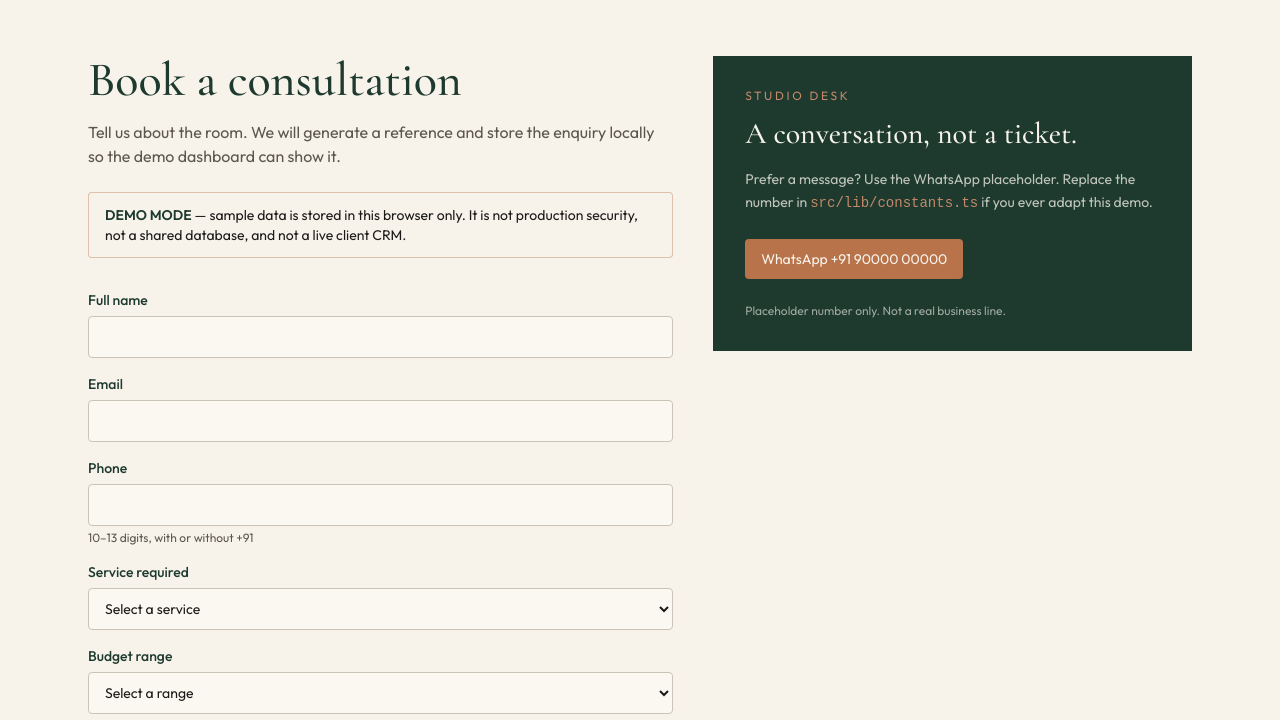
Test: ContactPage › saves a valid enquiry and shows a reference
Type "Meera Iyer" into the field labelled "Full name" at (381, 337), box [88,316,673,358]
Type "meera@example.com" into the field labelled "Email" at (381, 421), box [88,400,673,442]
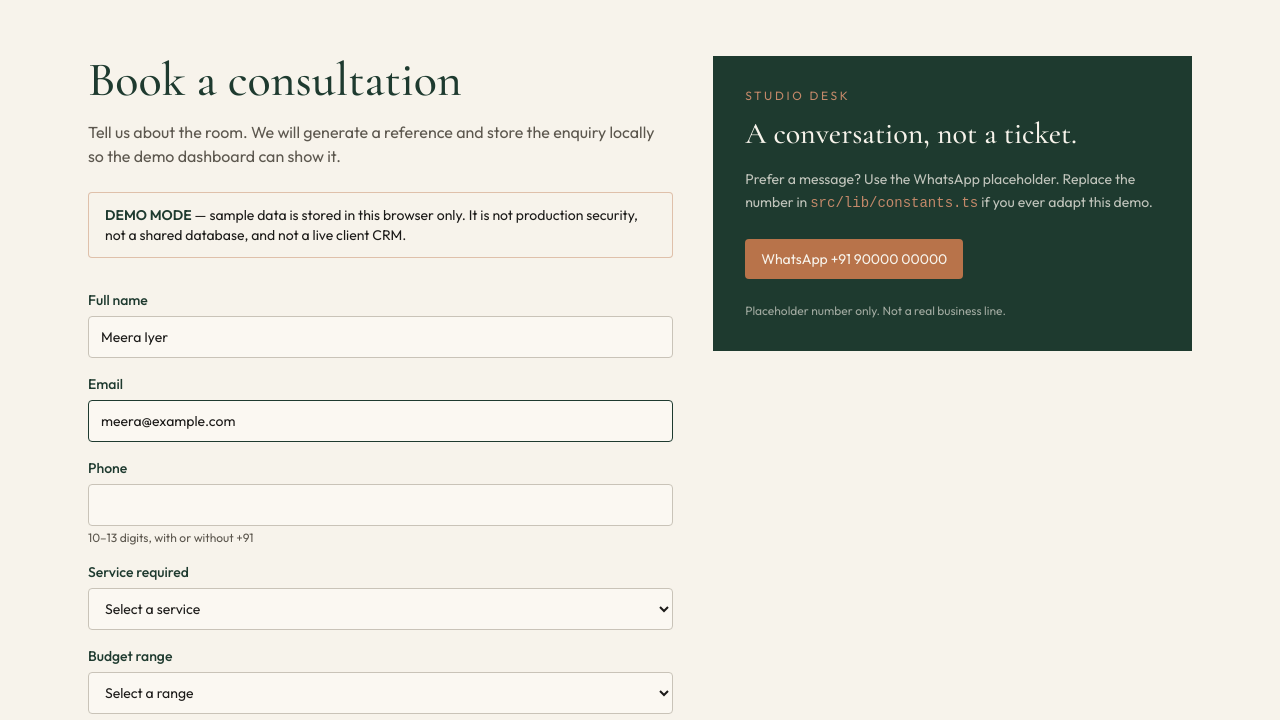
Type "9876543210" into the field labelled "Phone" at (381, 505), box [88,484,673,526]
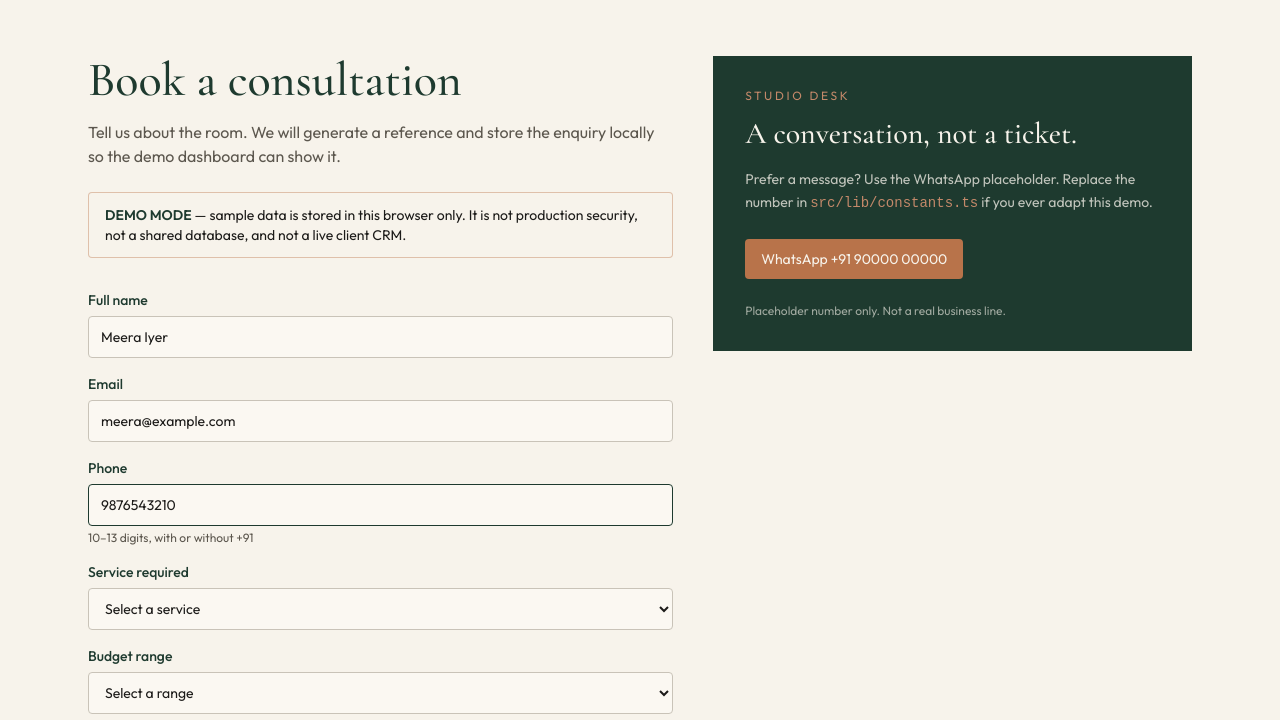
Select "Consultation" in the dropdown labelled "Service required" at (381, 609), box [88,588,673,630]
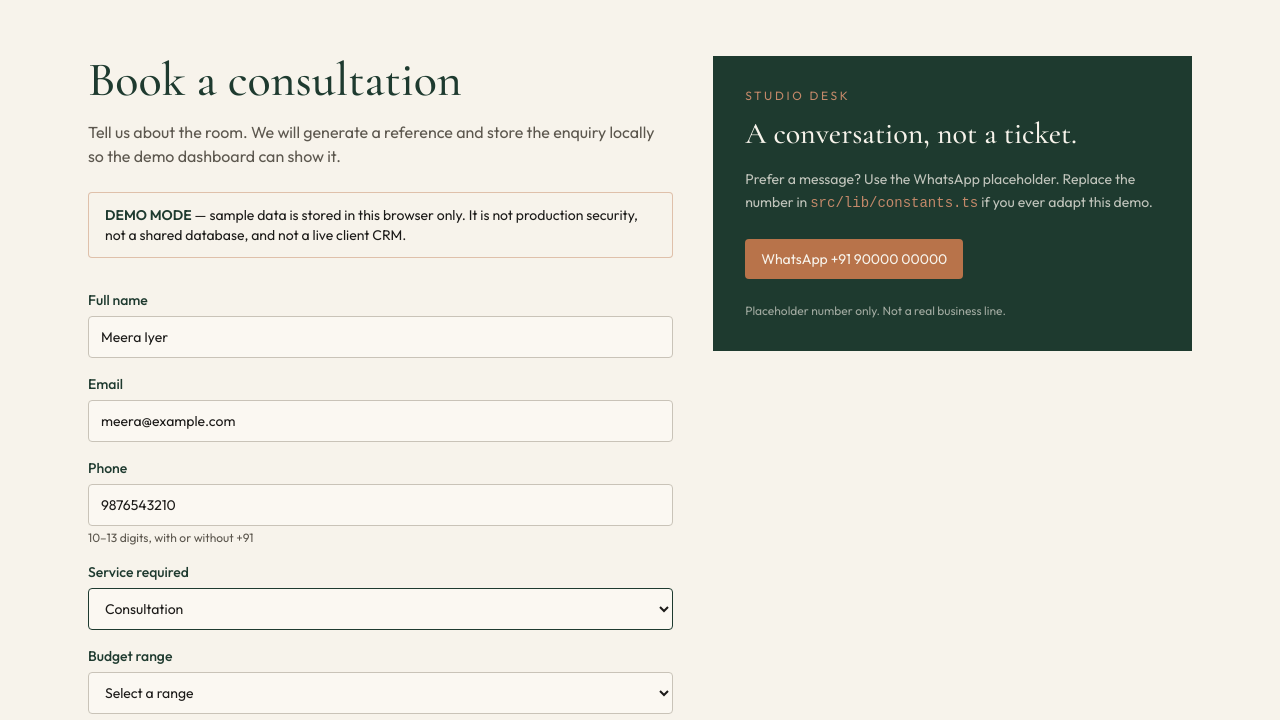
Select "Under ₹5L" in the dropdown labelled "Budget range" at (381, 693), box [88,672,673,714]
(page scrolled)
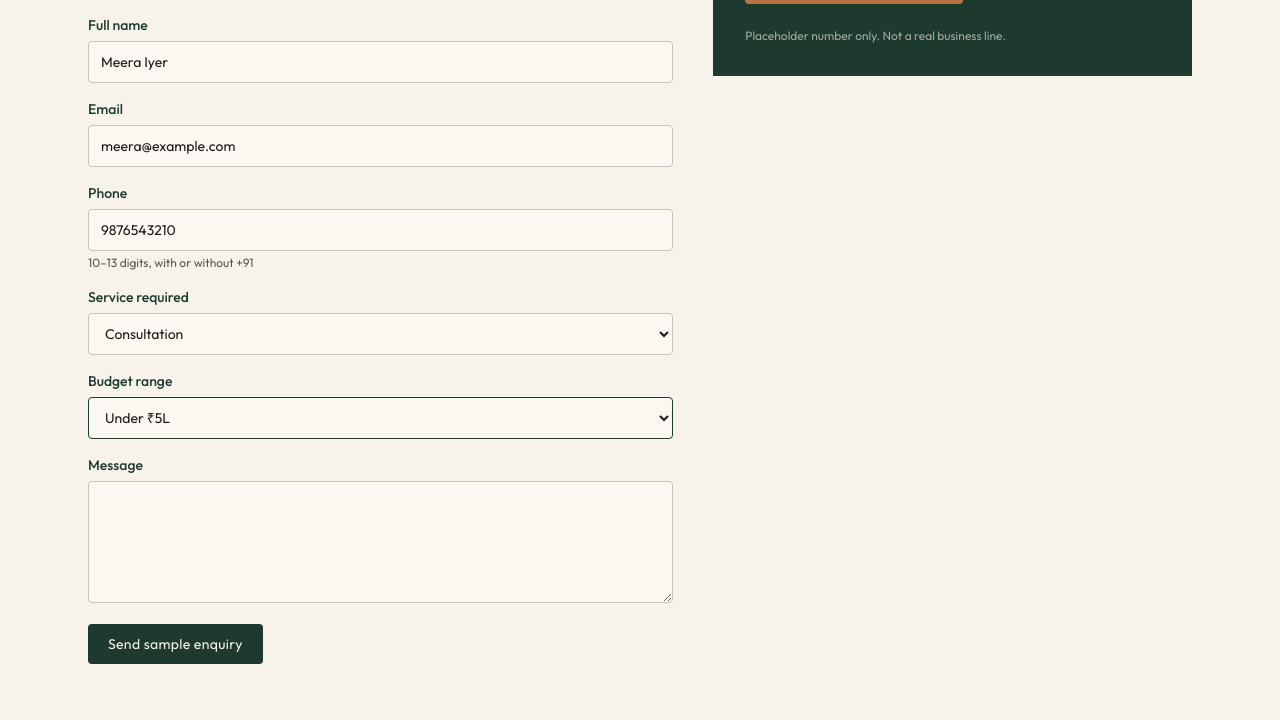
Type "Please help with a bedroom refresh using oak and linen." into the text box labelled "Message" at (381, 542), box [88,481,673,603]
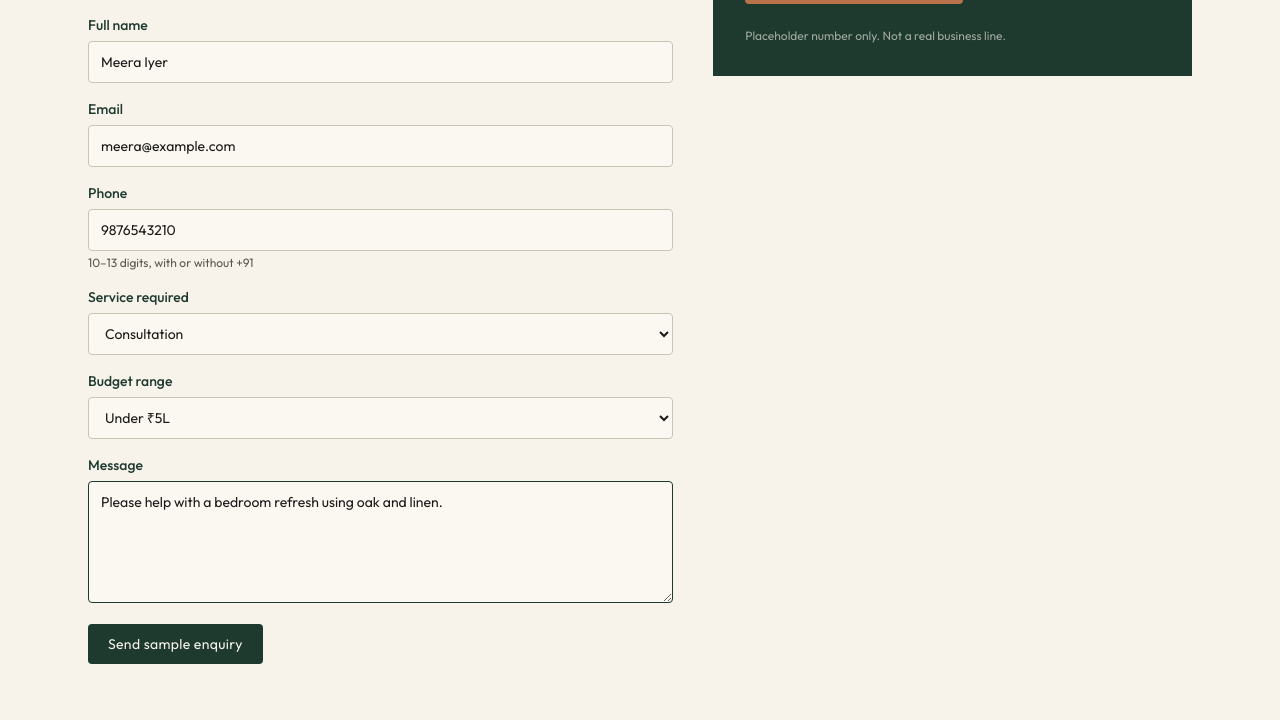
Click the button "Send sample enquiry" at (175, 644), box [88,624,263,664]
(page scrolled)
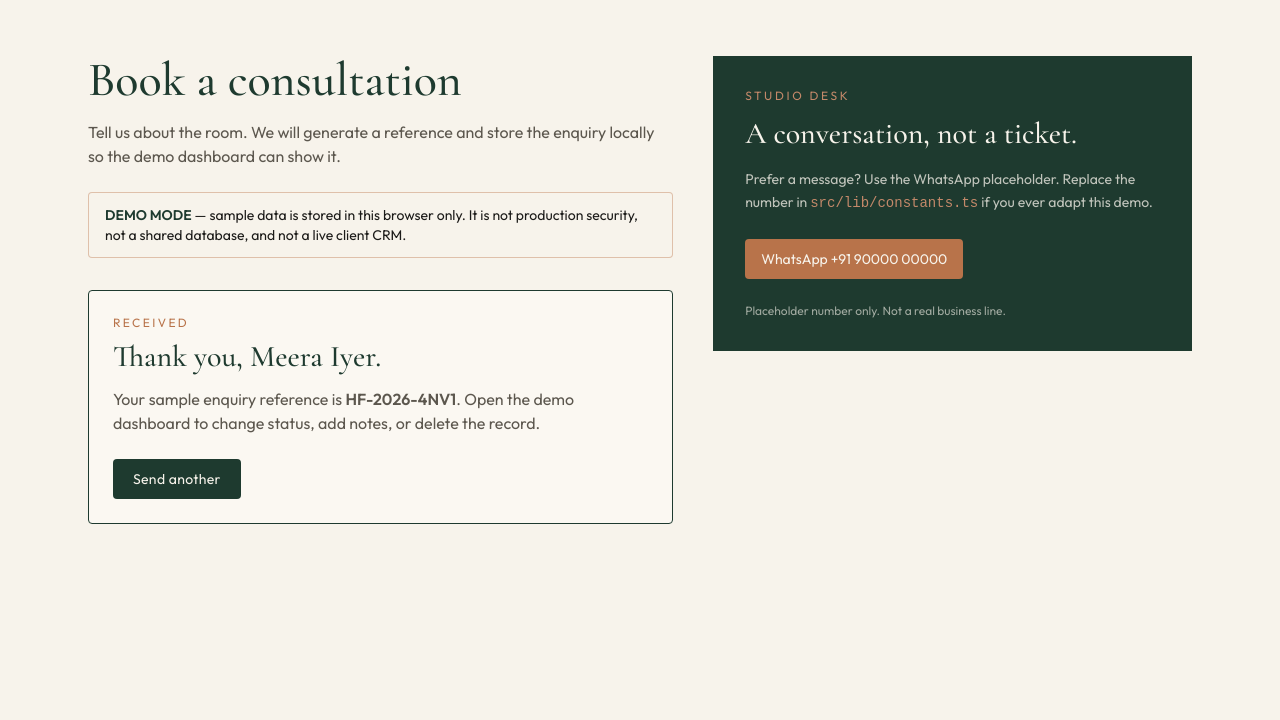
expect the text "enquiry reference" is shown: met, box [113,389,346,409]
expect the text "HF-2026-4NV1" is shown: met, box [346,389,456,409]
